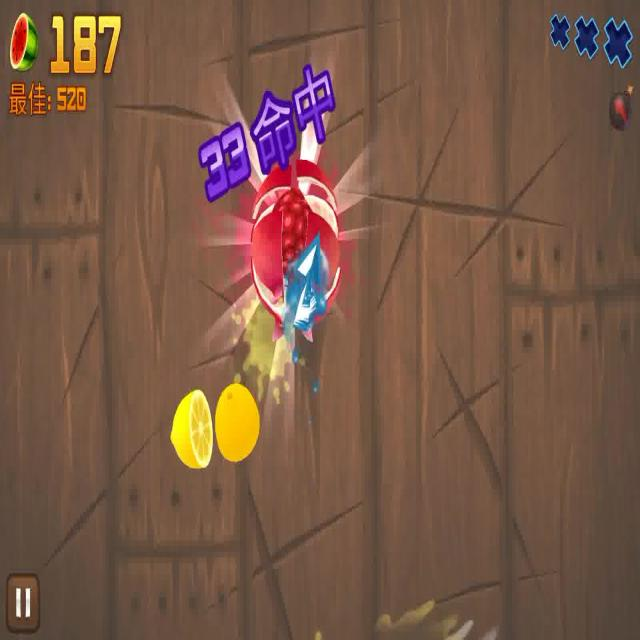fruit: (250, 167, 340, 322), (218, 373, 260, 463), (172, 389, 212, 470)
